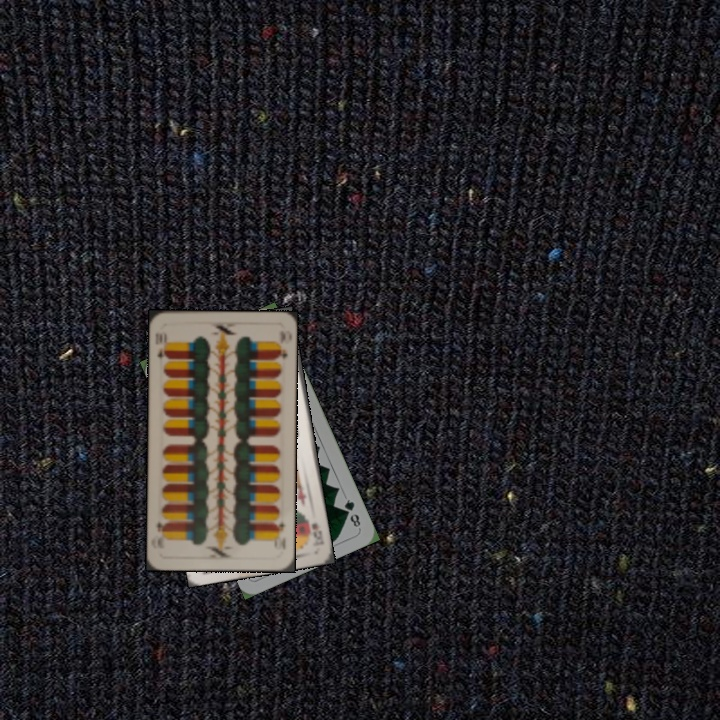E10: (152, 329, 171, 362), (271, 517, 287, 543)
G8: (340, 495, 363, 530)
SK: (308, 518, 324, 549)
